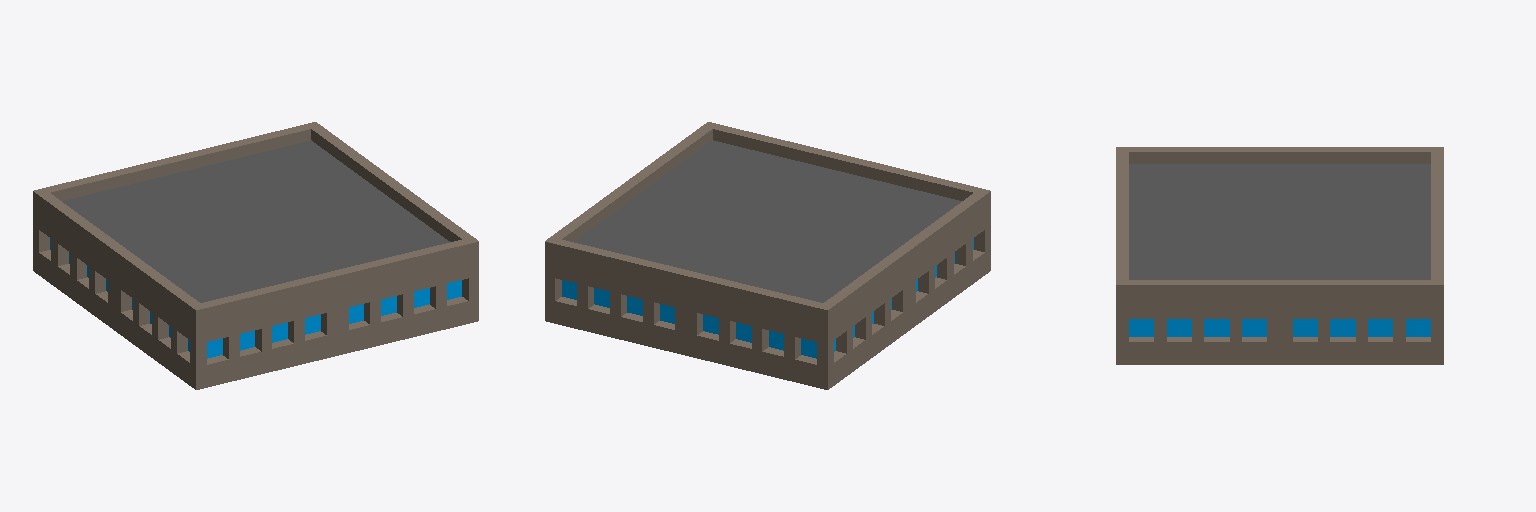
3 views of the same model, side by side, from view 1: azimuth 30°, elevation 25°; view 2: azimuth 150°, elevation 25°; view 3: azimuth 270°, elevation 25° (orthographic).
Parts seen in each view (by area): view 1: object 1; view 2: object 1; view 3: object 1.
Part boxes in pixels (x1,y1,x2,y2): object 1: (33, 122, 478, 389); object 1: (545, 122, 990, 389); object 1: (1116, 147, 1443, 364).
Bounding box in the file's own units: 2.6 × 0.7 × 2.6.
1 materials, 1 textured.